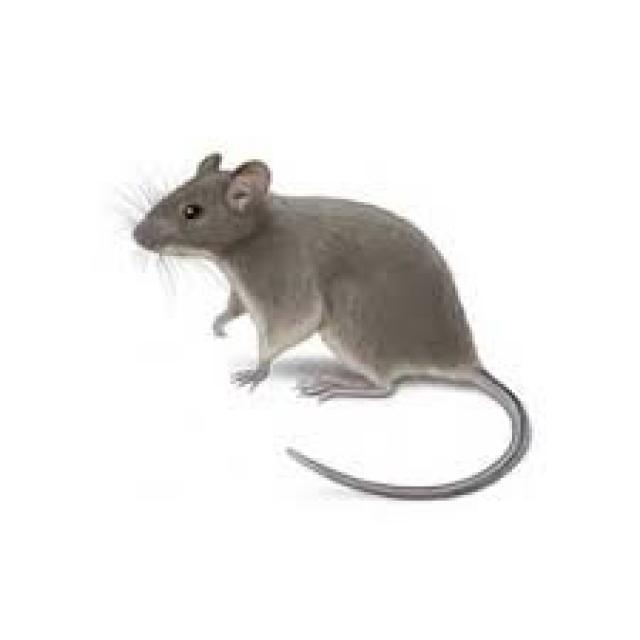Mouse: (128, 148, 536, 518)
